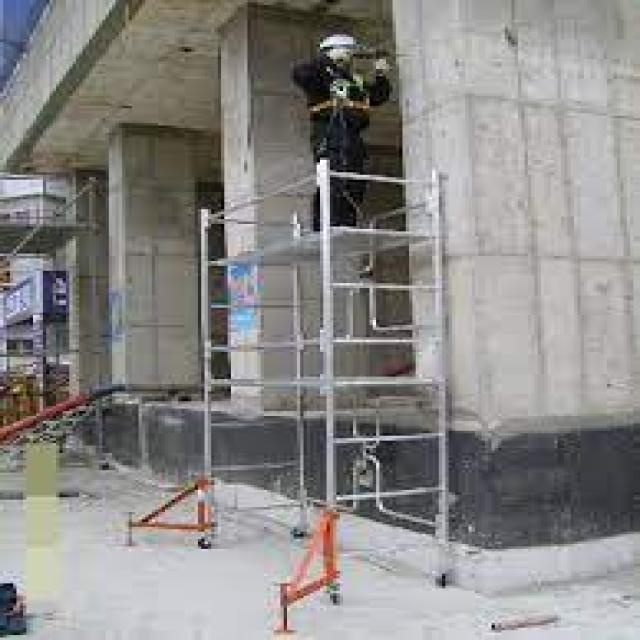Arnes_seguridad: (310, 56, 372, 140)
